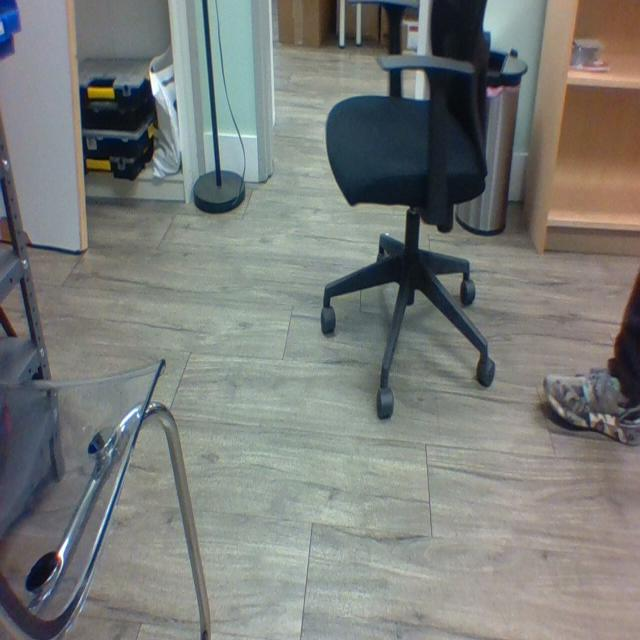black-chair: (324, 0, 495, 417)
